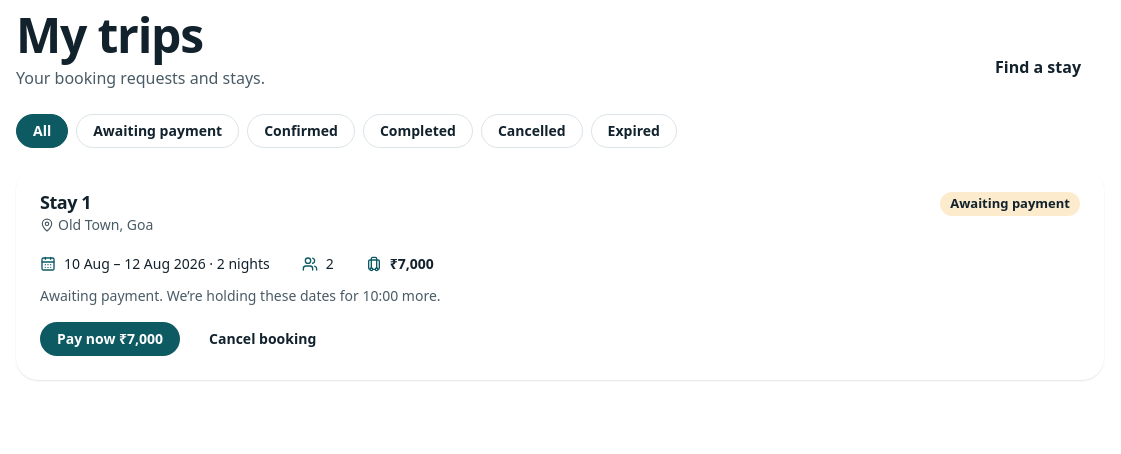
Test: MyTrips › Pay now: a cancelled Checkout leaves the booking unpaid and says so
Click the button with aria-label "Pay now for Stay 1": (110,339) [40,322,180,356]
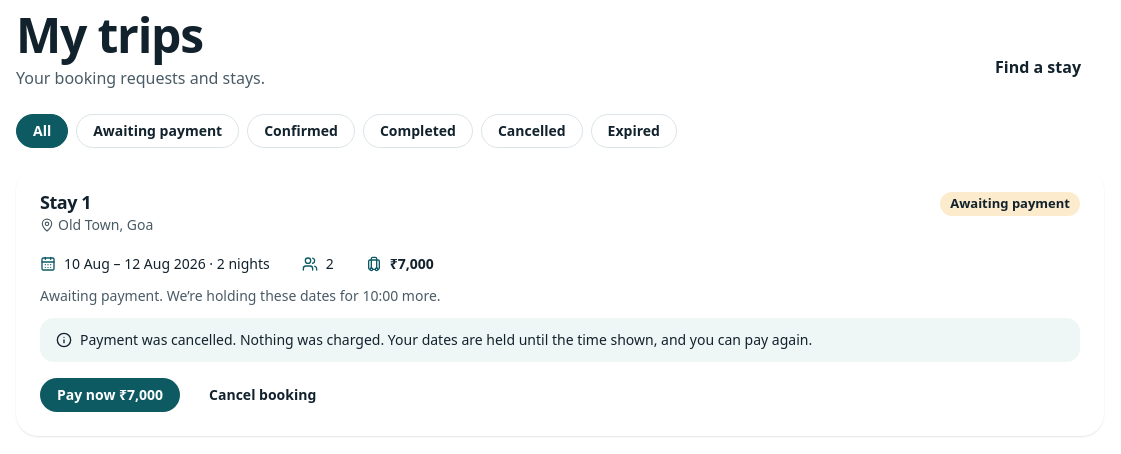
Expected: the button with aria-label "Pay now for Stay 1" is enabled, [40,378,180,412]
Expected: the text "Payment was cancelled" is shown, [80,330,812,349]
